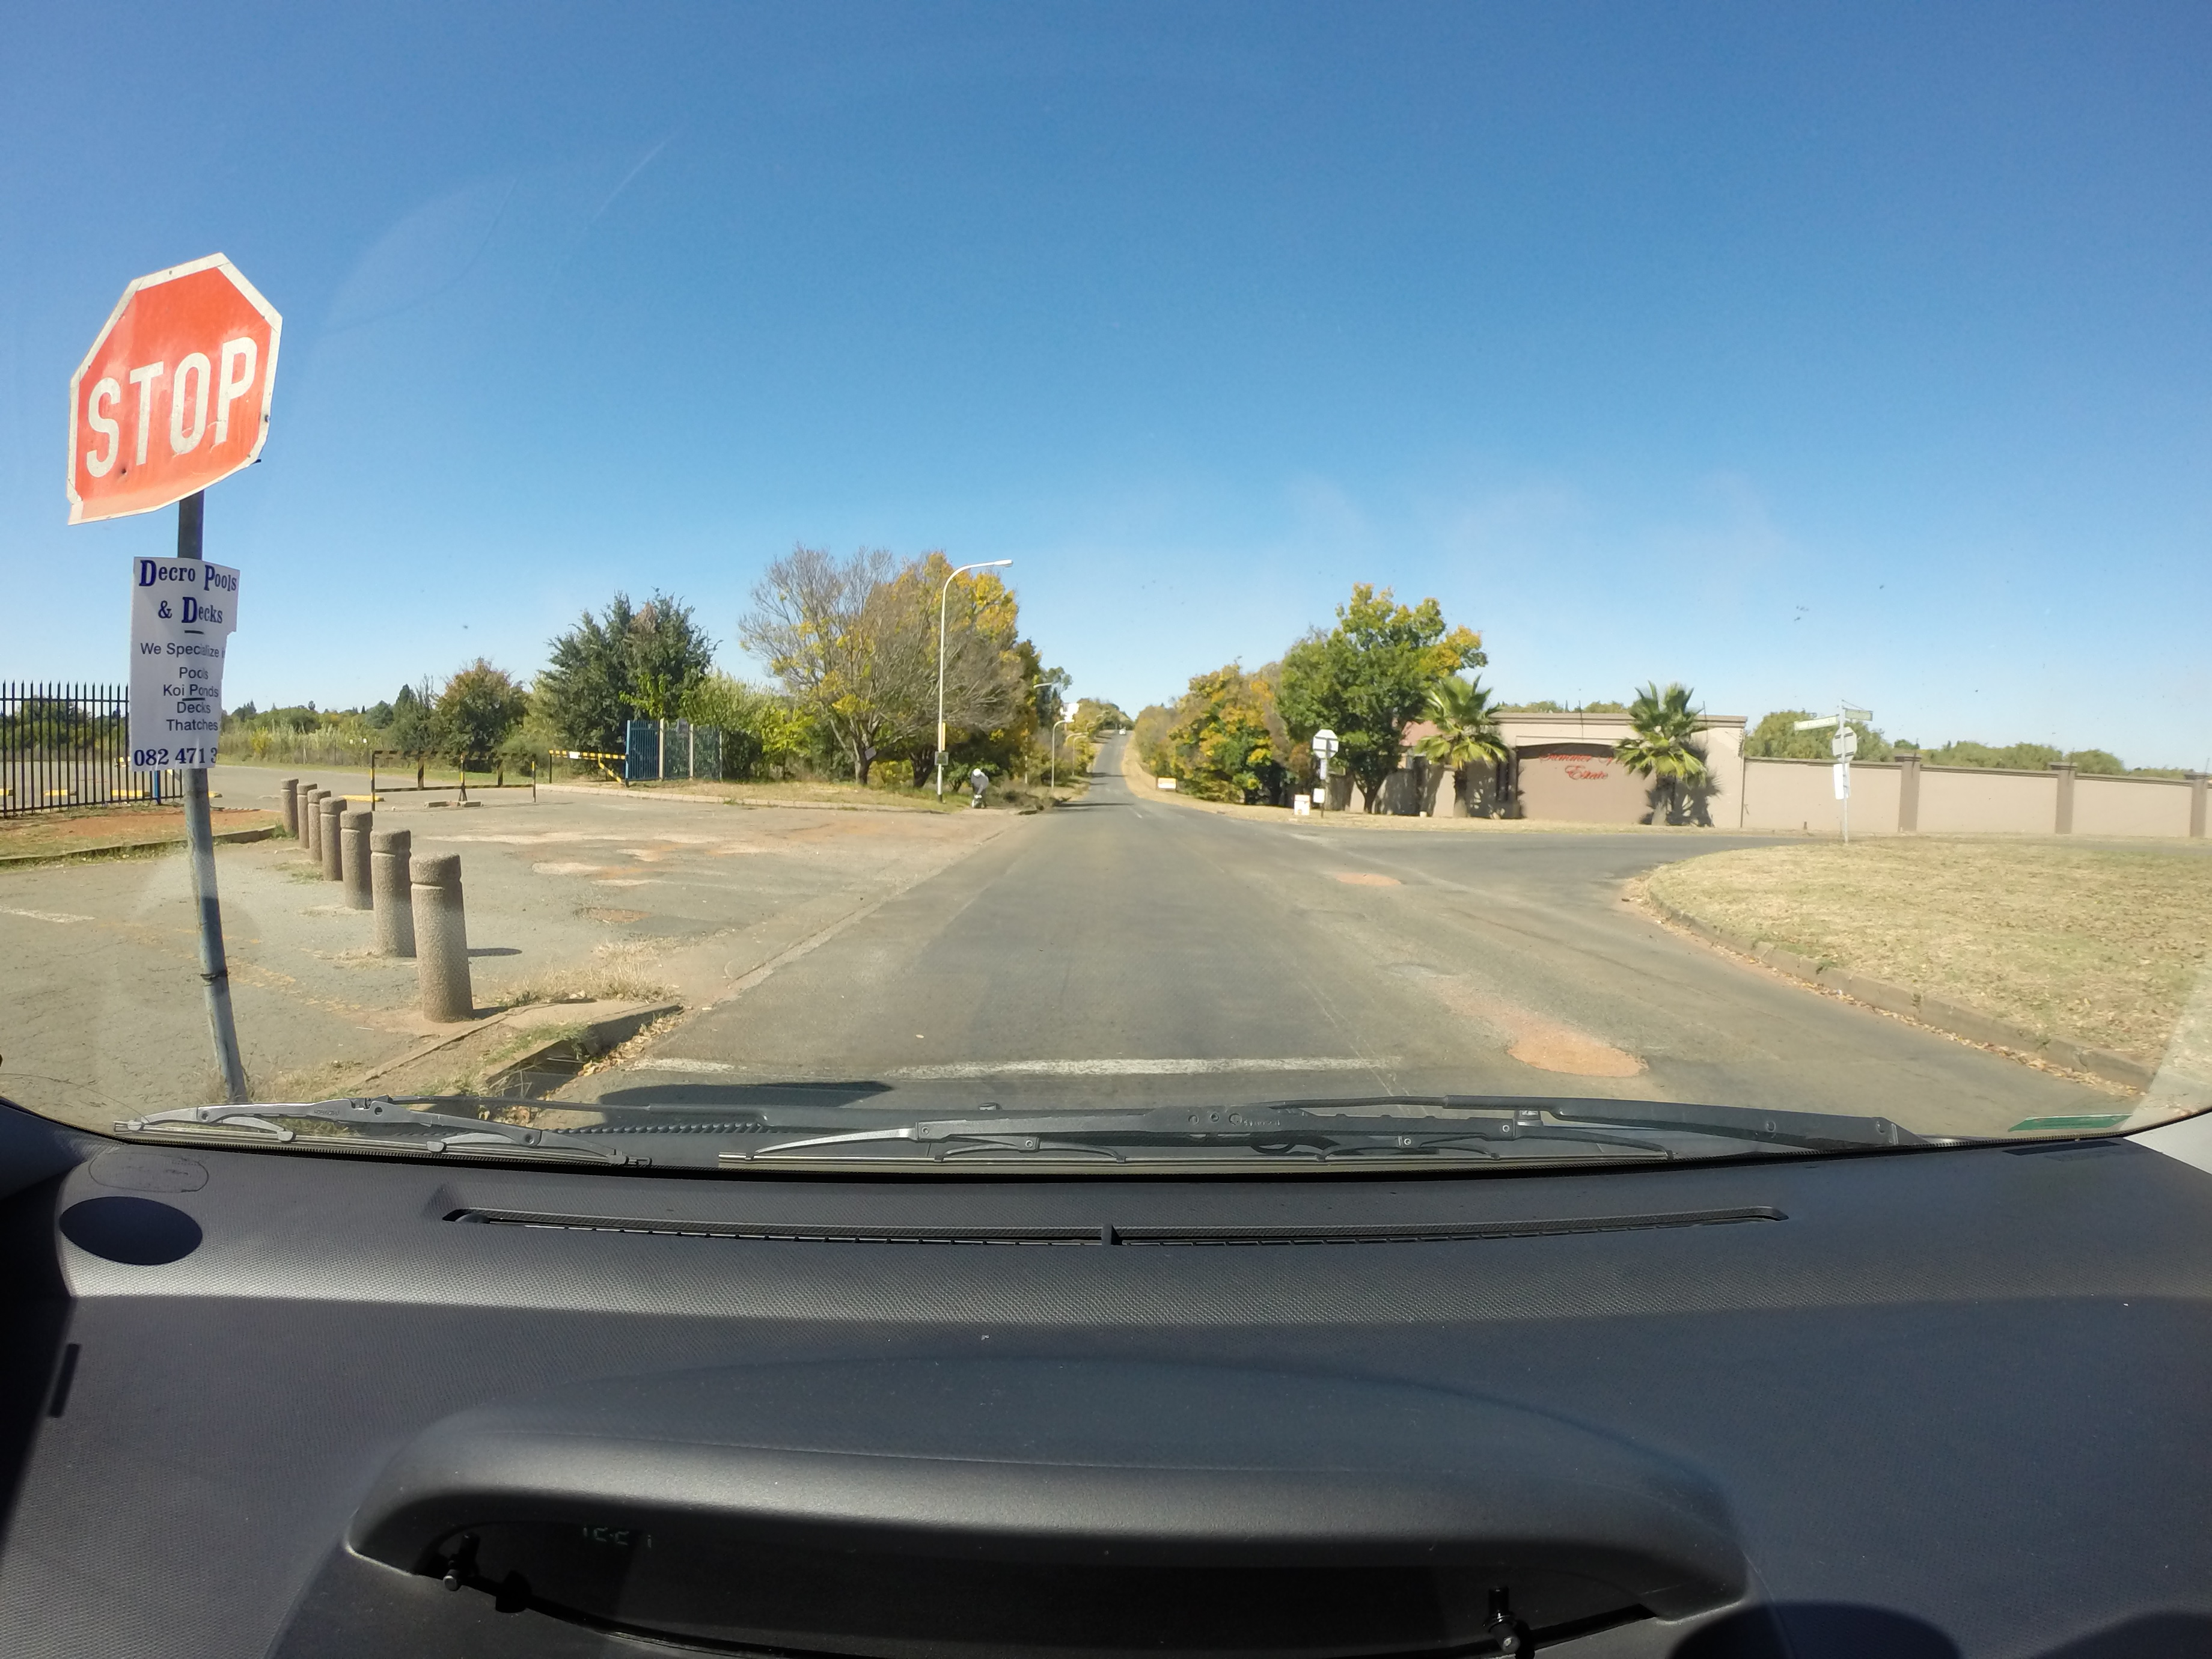pothole: (1487, 1009, 1677, 1091), (1334, 864, 1416, 894)
